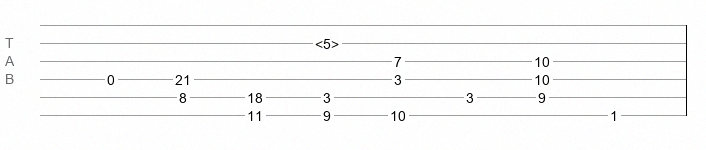0: (107, 72, 115, 82)
1: (610, 108, 618, 118)
10: (390, 108, 406, 118), (534, 72, 550, 82), (534, 54, 550, 64)
11: (247, 108, 263, 118)
18: (247, 90, 263, 100)
21: (175, 72, 191, 82)
3: (323, 90, 331, 100), (394, 72, 402, 82), (466, 90, 474, 100)
7: (394, 54, 402, 64)
8: (179, 90, 187, 100)
9: (323, 108, 331, 118), (538, 90, 546, 100)
harmonic: (315, 36, 339, 46)
